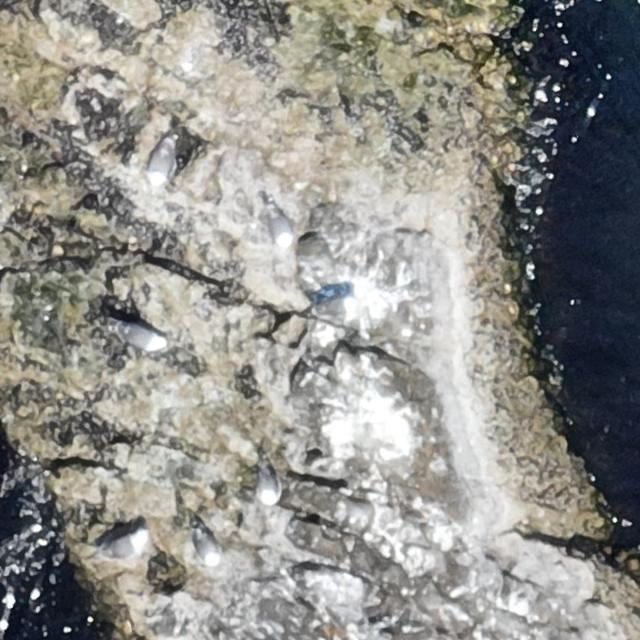umineko: (147, 134, 183, 189), (116, 320, 170, 355), (97, 528, 152, 562), (194, 519, 223, 570), (268, 200, 298, 249), (302, 298, 355, 320), (260, 467, 279, 502)
